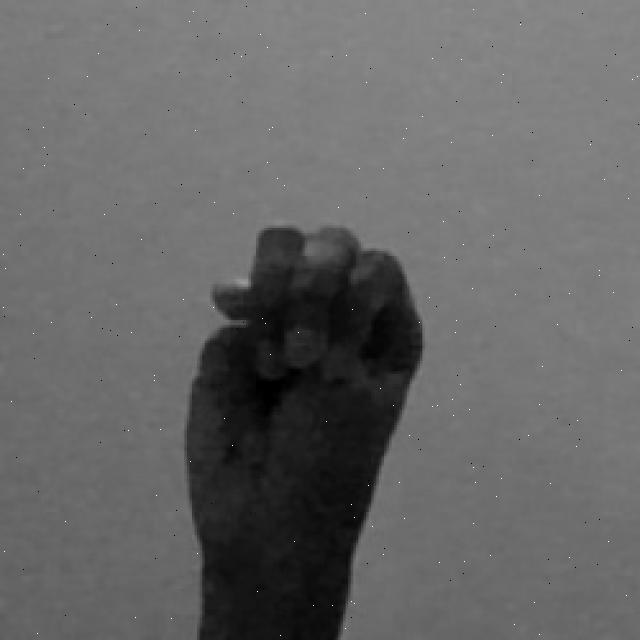M: (178, 219, 428, 640)
